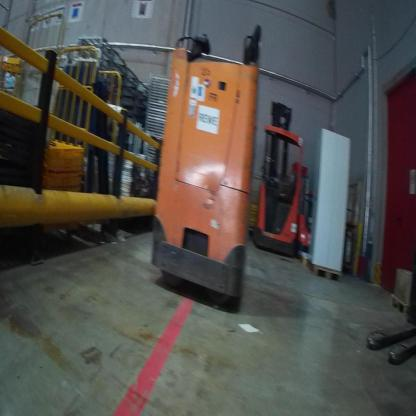forklift: (248, 90, 311, 264)
pallet: (297, 249, 413, 326), (309, 261, 343, 284)
pallet_truck: (140, 17, 270, 322), (353, 272, 414, 372), (294, 173, 323, 253)
